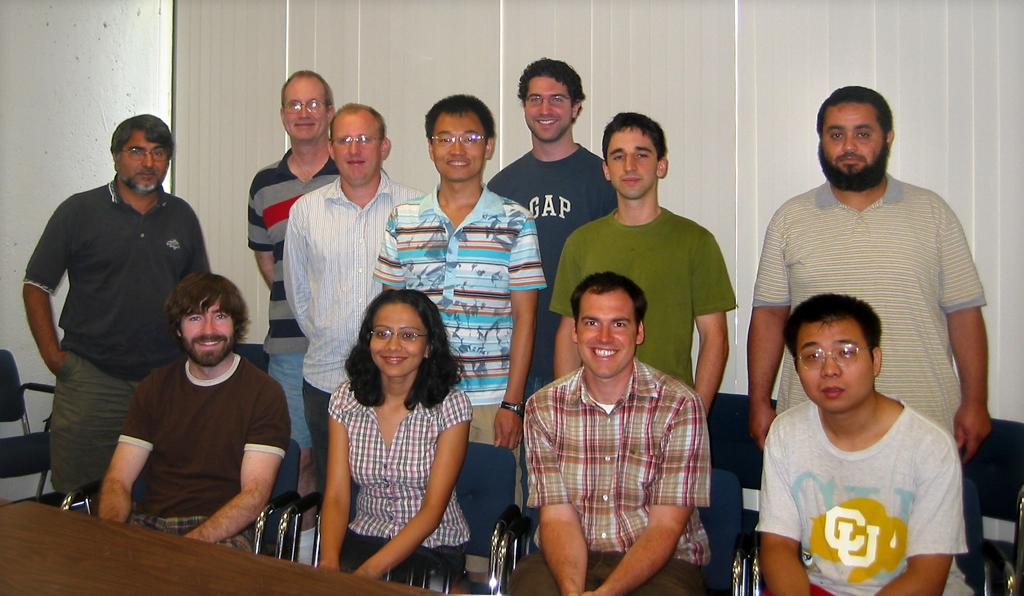face: (796, 317, 874, 412), (578, 287, 638, 376), (824, 103, 886, 183), (370, 303, 427, 377), (433, 113, 486, 181), (607, 127, 657, 198), (332, 112, 381, 183), (179, 308, 234, 365), (525, 76, 573, 141), (120, 130, 169, 193), (282, 77, 327, 141)
